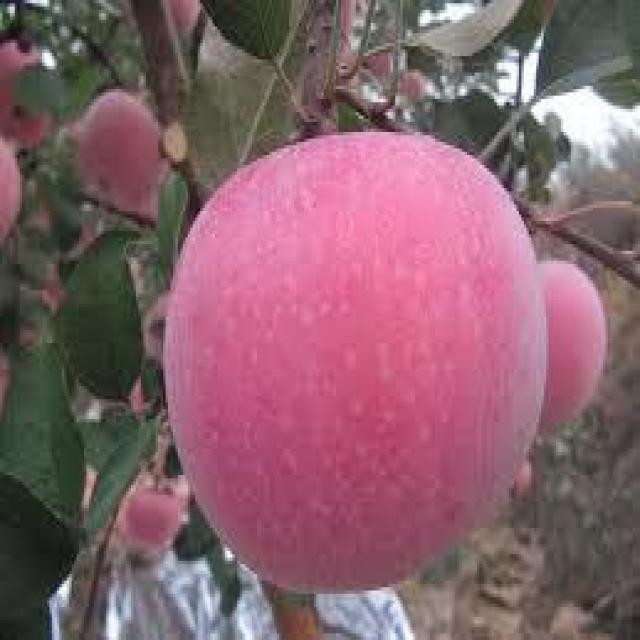Fresh Apple: (167, 135, 553, 580)
